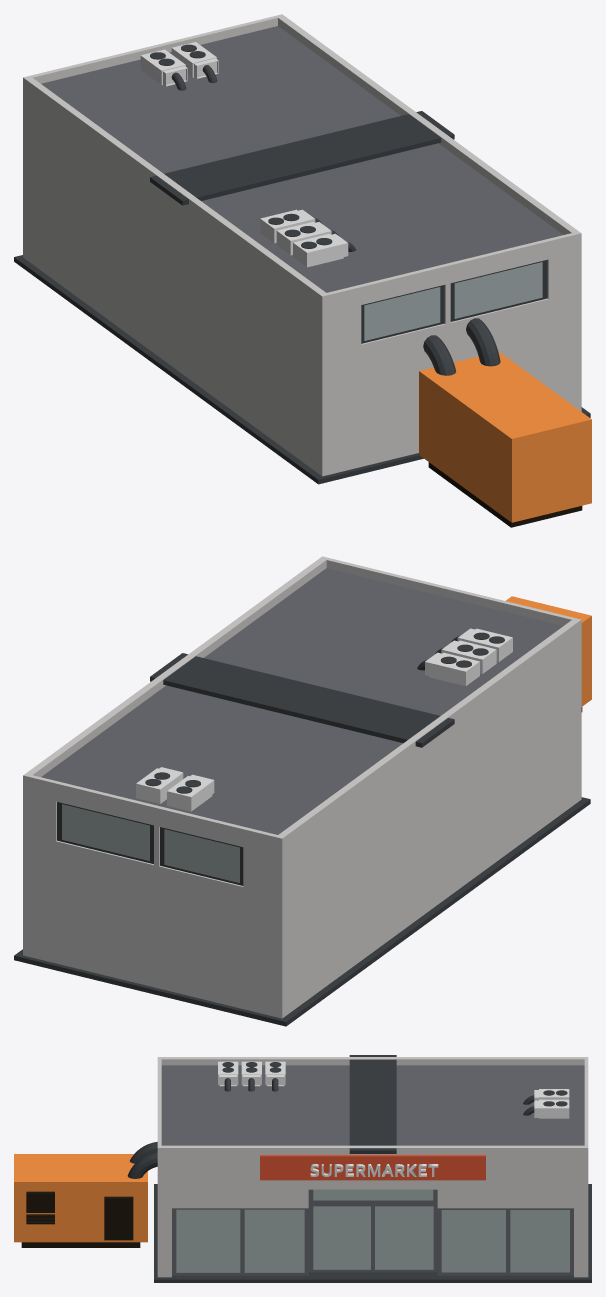
File: SuperMarket.fbx
3 views of the same model, one above another, from view 1: azimuth 30°, elevation 25°; view 2: azimuth 150°, elevation 25°; view 3: azimuth 270°, elevation 25° (orthographic). The views are drawn at different scales.
Parts seen in each view (by area): view 1: Supermarket, Generator, Roof, Ground, Climate.001, Climate.004, Torus.006, Climate.005, Torus.005, Climate.003, Climate.002; view 2: Supermarket, Roof, Ground, Generator, Climate.003, Climate.004, Climate.005, Climate.002, Climate.001; view 3: Supermarket, Generator, Tabela, Ground, Roof, Cube.002, Text, Cube.001, Climate.005, Torus.006, Climate.002, Climate.001 (+2 smaller).
Boxes of the visible parts, x1=… form: Supermarket: x1=23, y1=14, x2=581, y2=476; Generator: x1=419, y1=351, x2=591, y2=527; Roof: x1=150, y1=111, x2=454, y2=205; Ground: x1=14, y1=255, x2=590, y2=484; Climate.001: x1=293, y1=233, x2=348, y2=267; Climate.004: x1=140, y1=49, x2=187, y2=86; Torus.006: x1=466, y1=318, x2=500, y2=366; Climate.005: x1=171, y1=42, x2=218, y2=78; Torus.005: x1=423, y1=335, x2=456, y2=375; Climate.003: x1=260, y1=209, x2=315, y2=243; Climate.002: x1=276, y1=222, x2=331, y2=255; Supermarket: x1=23, y1=556, x2=581, y2=1018; Roof: x1=150, y1=653, x2=454, y2=747; Ground: x1=14, y1=797, x2=590, y2=1026; Generator: x1=506, y1=596, x2=591, y2=711; Climate.003: x1=425, y1=652, x2=479, y2=686; Climate.004: x1=167, y1=774, x2=214, y2=811; Climate.005: x1=136, y1=767, x2=183, y2=803; Climate.002: x1=441, y1=640, x2=496, y2=673; Climate.001: x1=457, y1=628, x2=512, y2=661; Supermarket: x1=157, y1=1057, x2=588, y2=1277; Generator: x1=14, y1=1154, x2=147, y2=1247; Tabela: x1=260, y1=1155, x2=485, y2=1180; Ground: x1=154, y1=1184, x2=591, y2=1282; Roof: x1=349, y1=1055, x2=396, y2=1153; Cube.002: x1=104, y1=1196, x2=133, y2=1240; Text: x1=310, y1=1164, x2=438, y2=1176; Cube.001: x1=26, y1=1191, x2=54, y2=1212; Climate.005: x1=534, y1=1099, x2=569, y2=1118; Torus.006: x1=127, y1=1152, x2=157, y2=1178; Climate.002: x1=241, y1=1061, x2=261, y2=1086; Climate.001: x1=218, y1=1061, x2=238, y2=1086.
Size of what is drawn, in the model's own units: 318 by 212 by 805.
Materials: 3 (3 with a texture image).
